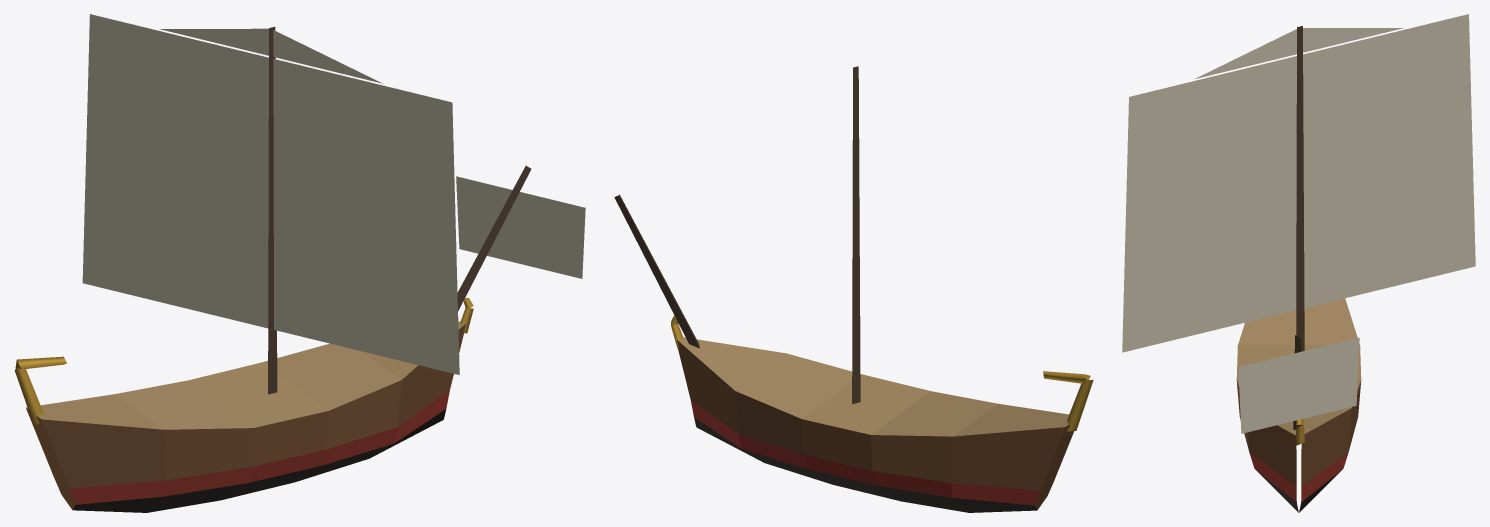
File: hull_usd_grain_flagship_lod.glb
3 renders of one model, left to right at view 1: azimuth 30°, elevation 25°; view 2: azimuth 150°, elevation 25°; view 3: azimuth 270°, elevation 25°, orthographic. The views are drawn at different scales.
Parts seen in each view (by area): view 1: lod; view 2: lod; view 3: lod.
Boxes of the visible parts, x1,y1,x2,y2 form: lod: [14, 14, 585, 512]; lod: [614, 66, 1093, 512]; lod: [1122, 14, 1475, 512].
Size of the model in its own units: 37.56 by 30.66 by 22.7.
